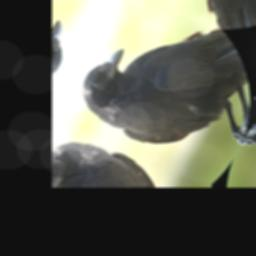Crow: (68, 0, 256, 180)
